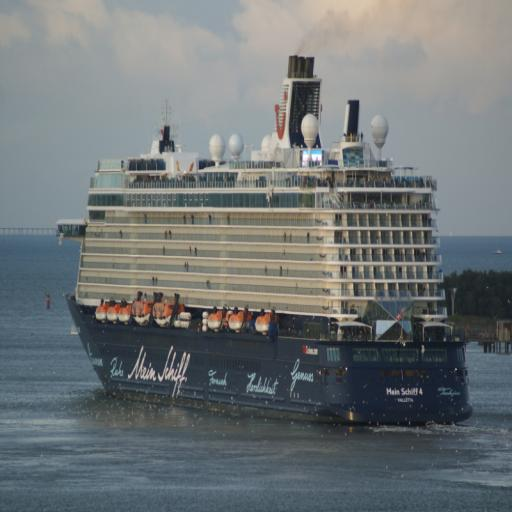cruises: (53, 37, 478, 432)
